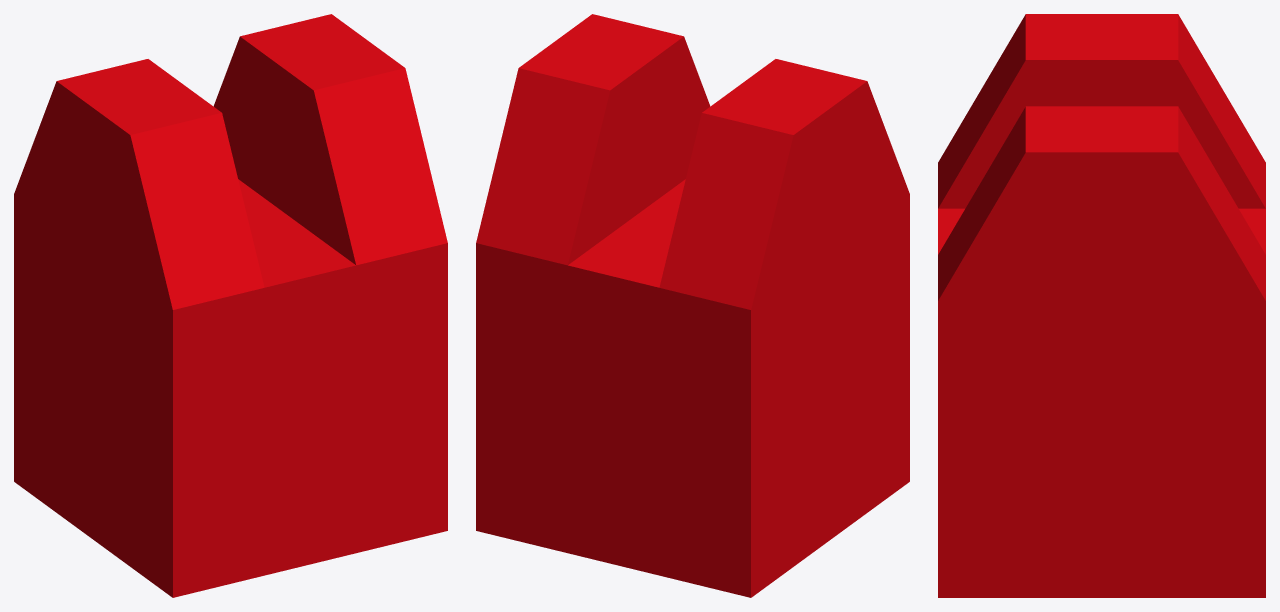
File: robot_export.glb
3 renders of one model, left to right at view 1: azimuth 30°, elevation 25°; view 2: azimuth 150°, elevation 25°; view 3: azimuth 270°, elevation 25°, orthographic. The views are drawn at different scales.
Visible parts, largest first — view 1: Cube; view 2: Cube; view 3: Cube.
Boxes of the visible parts, x1,y1,x2,y2 form: Cube: (14, 14, 447, 597); Cube: (476, 14, 909, 597); Cube: (938, 14, 1265, 597).
Size of the model in its own units: 1 by 1.5 by 1.
